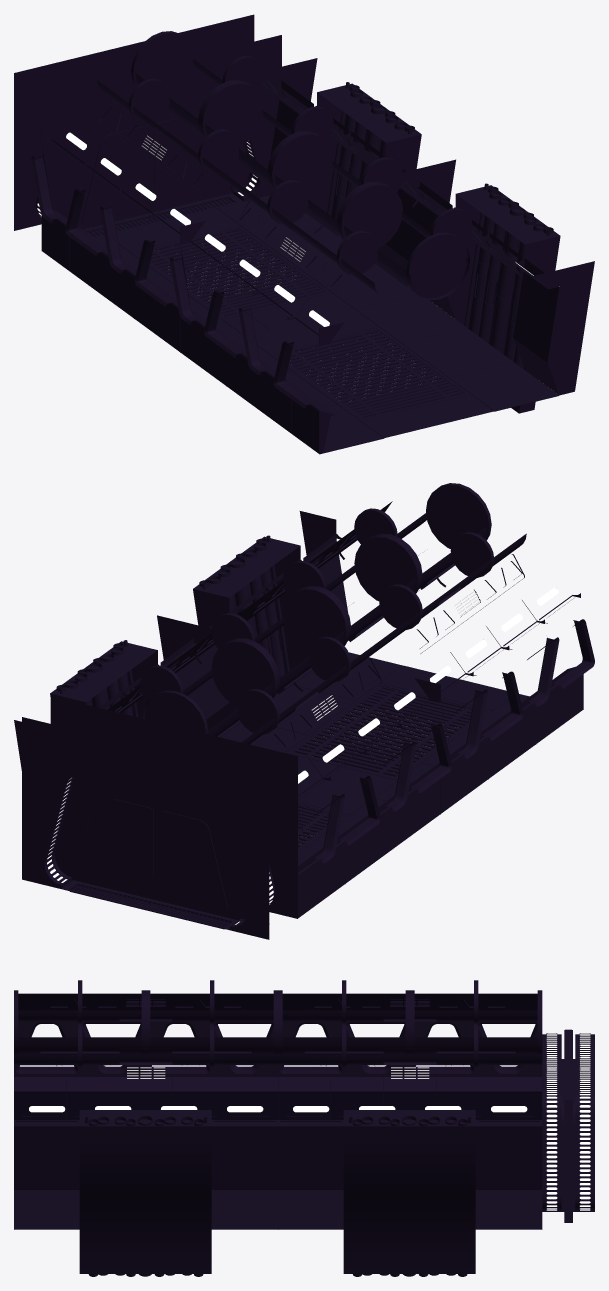
Rendered from Corridor-transformed.glb.
The picture shows the model from 3 angles, top to bottom: view 1: azimuth 30°, elevation 25°; view 2: azimuth 150°, elevation 25°; view 3: azimuth 270°, elevation 25°; orthographic projection. The views are drawn at different scales.
Visible parts, largest first — view 1: model_82, model_83; view 2: model_82, model_83; view 3: model_82, model_83, model_9.
Boxes of the visible parts, left/top/right/bottom form: model_82: left=14, top=14, right=594, bottom=454; model_83: left=37, top=132, right=533, bottom=326; model_82: left=14, top=483, right=594, bottom=939; model_83: left=47, top=587, right=558, bottom=924; model_82: left=14, top=980, right=594, bottom=1276; model_83: left=29, top=1033, right=590, bottom=1210; model_9: left=127, top=1067, right=429, bottom=1078.
Size of the model in its own units: 7.19 by 5.62 by 13.2.
